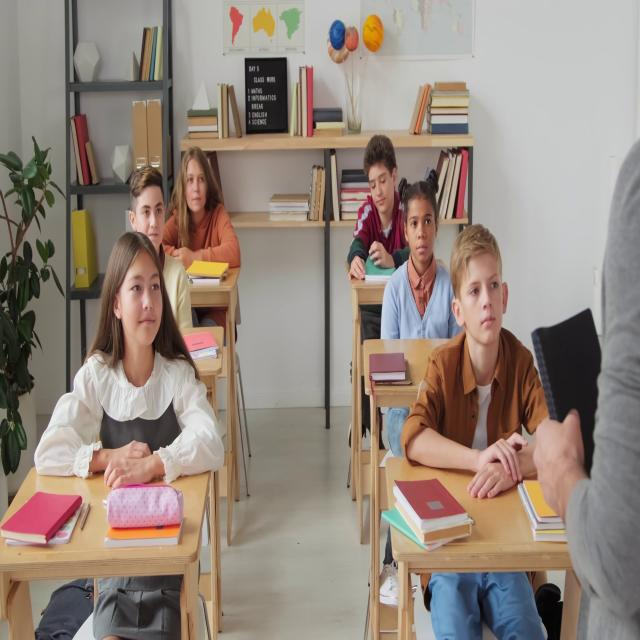listening: (400, 232, 556, 638), (36, 236, 228, 477), (165, 146, 243, 337), (378, 180, 460, 349), (130, 166, 197, 331)
reading: (347, 136, 411, 284)
